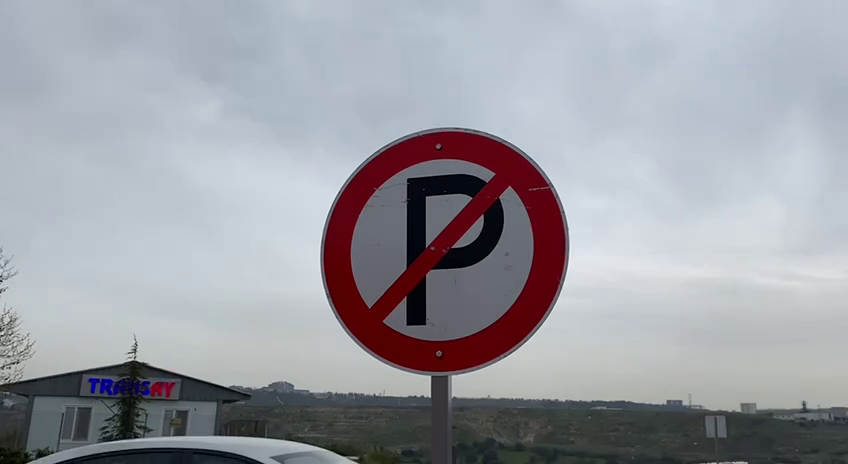noparking: (311, 119, 581, 388)
